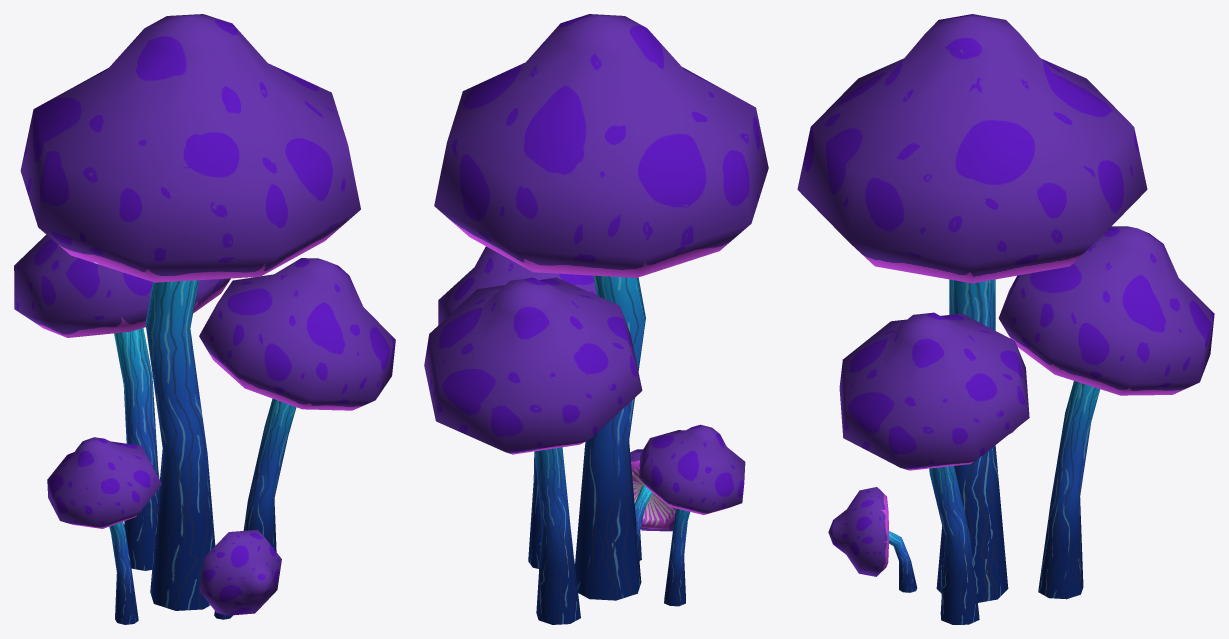
The model's file is Shroom.fbx.
The picture shows the model from 3 angles, left to right: view 1: azimuth 30°, elevation 25°; view 2: azimuth 150°, elevation 25°; view 3: azimuth 270°, elevation 25°; orthographic projection.
Parts seen in each view (by area): view 1: Shroom; view 2: Shroom; view 3: Shroom.
Boxes of the visible parts, x1,y1,x2,y2 form: Shroom: (14,14,395,624); Shroom: (424,14,768,624); Shroom: (797,14,1214,624).
Bounding box in the file's own units: 2.1 × 3.65 × 2.38.
